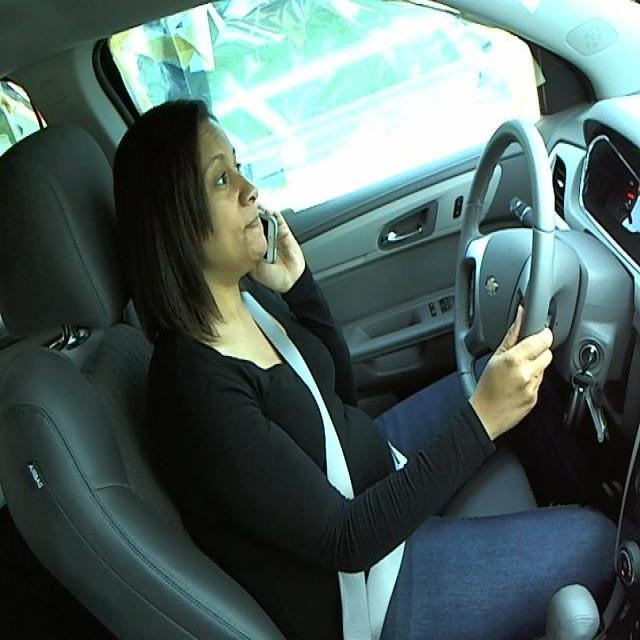using_phone: (90, 96, 332, 334)
